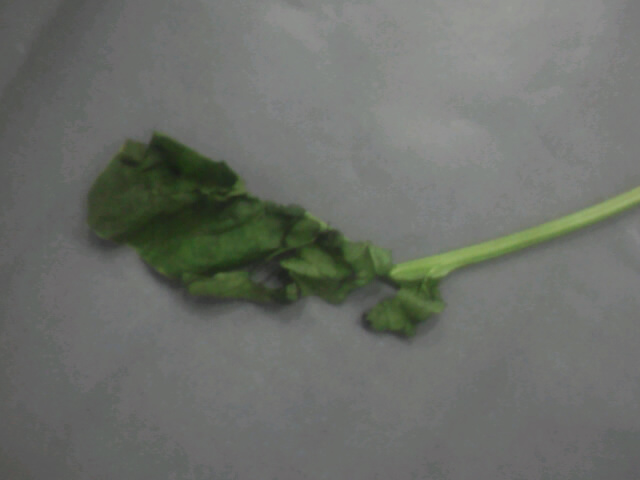yellow: (64, 124, 471, 356)
